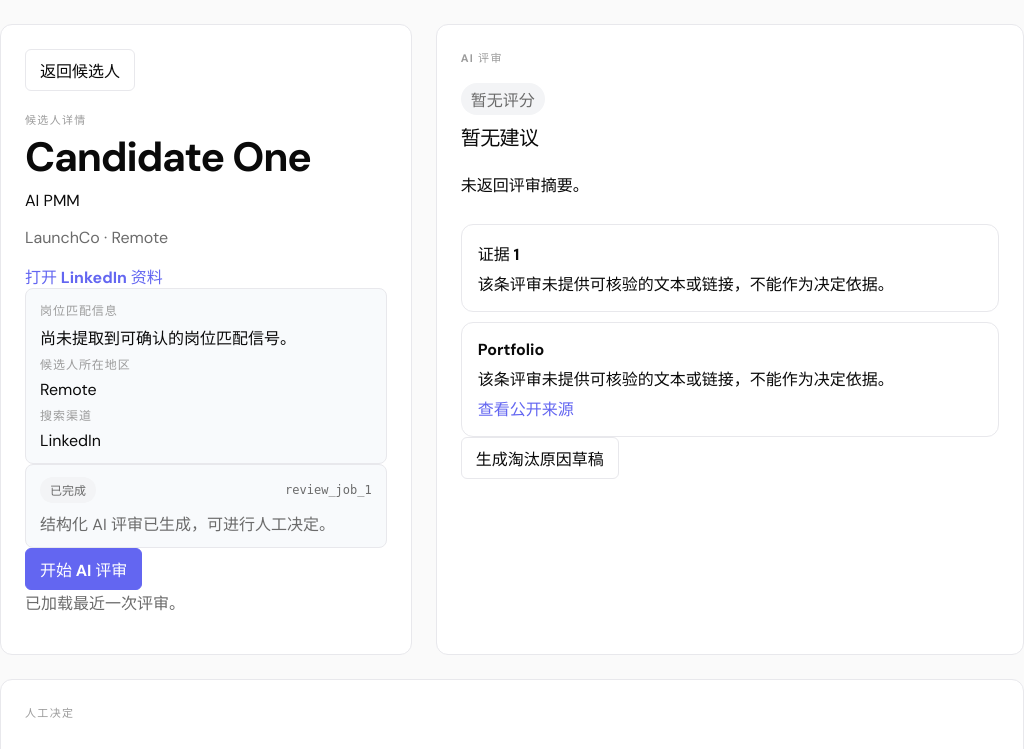
renders review fallback fields and draft evidence
Check: the text "暂无评分" is shown, box [461,83,545,115]
Check: the heading "暂无建议" is shown, box [461,125,538,151]
Click the button "生成淘汰原因草稿". click: (540, 458)
box: [461,437,619,479]
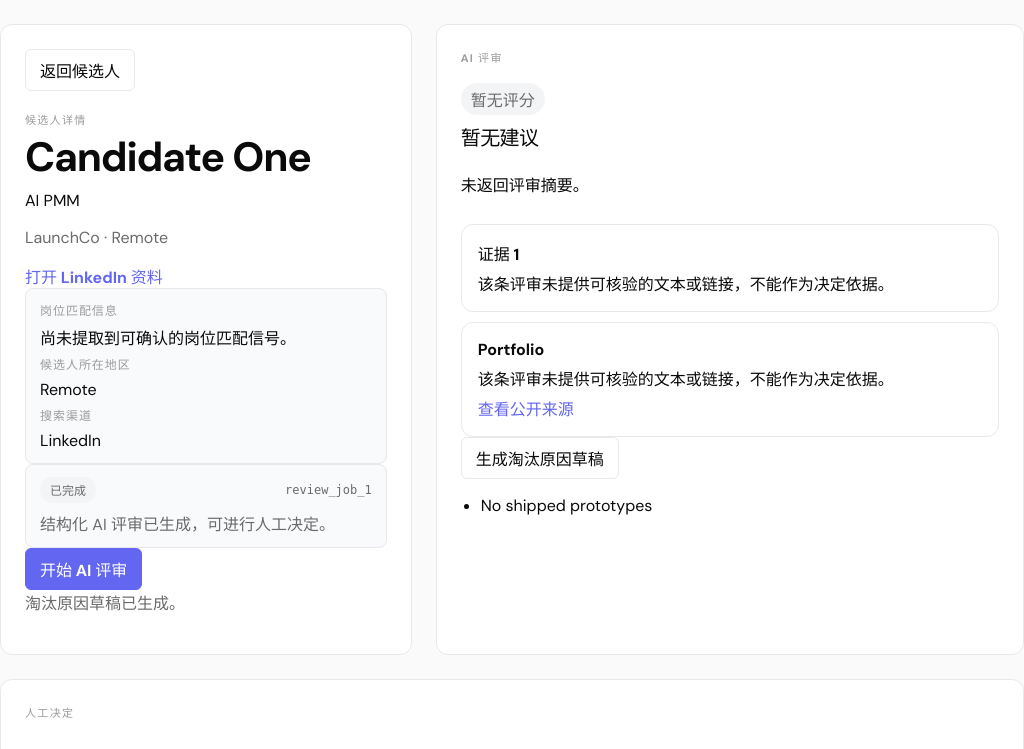
Check: the list item "No shipped prototypes" is shown, box [481,495,652,516]
